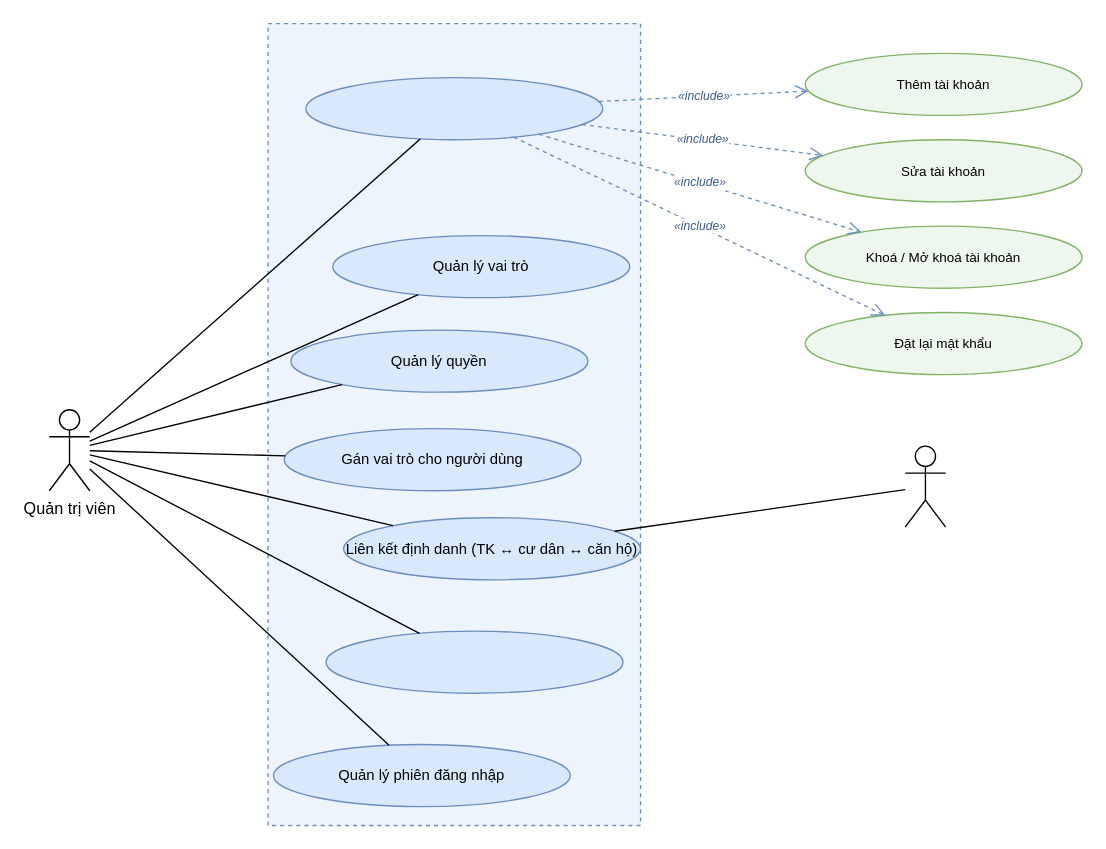
Some shapes in this 1106 by 849 pixel diagram are drawn without their labels. The box of each missing label's shape, as (x1, y1, x2, y2) in pixels:
Ban quản lý: (904, 445, 946, 527)
Gán quyền cho vai trò: (325, 630, 623, 693)
Phân quyền RBAC & quản trị người dùng: (267, 22, 641, 826)
Quản lý tài khoản người dùng: (304, 76, 603, 140)
